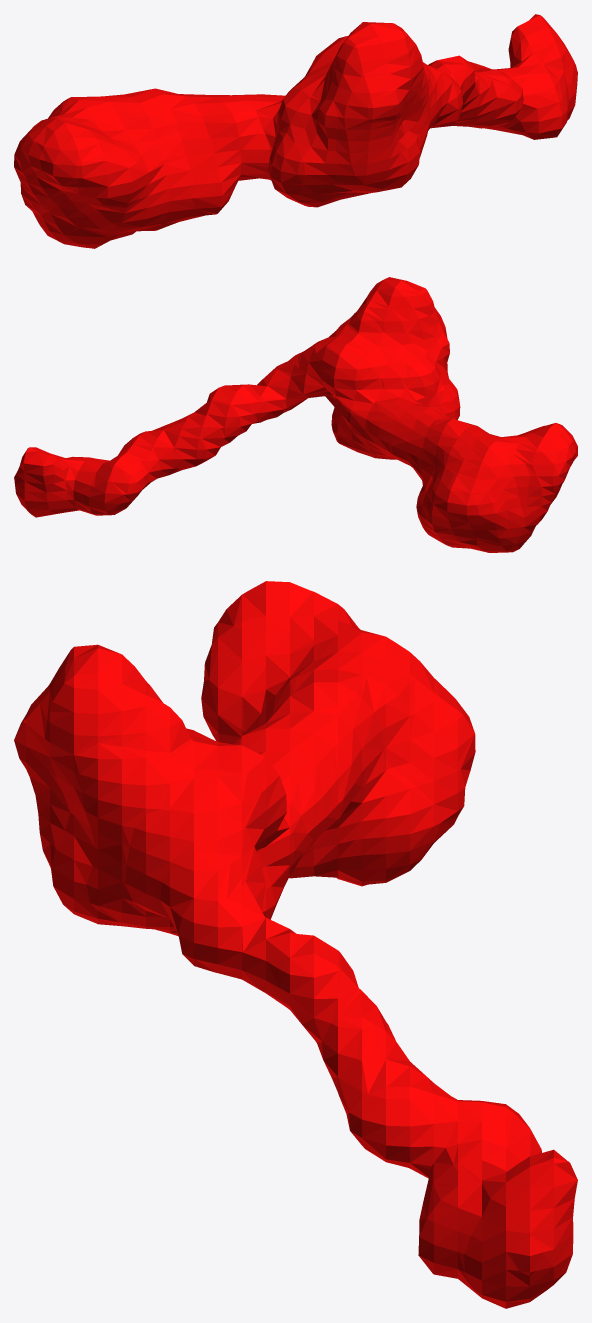
File: yjgA_coarse.dae
3 views of the same model, one above another, from view 1: azimuth 30°, elevation 25°; view 2: azimuth 150°, elevation 25°; view 3: azimuth 270°, elevation 25° (orthographic). The views are drawn at different scales.
Parts seen in each view (by area): view 1: yjgA; view 2: yjgA; view 3: yjgA.
Part boxes in pixels (<box>): yjgA: <box>14,14,577,248</box>; yjgA: <box>14,277,577,552</box>; yjgA: <box>14,581,577,1308</box>.
Size of the model in its own units: 126 by 53.41 by 64.47.
